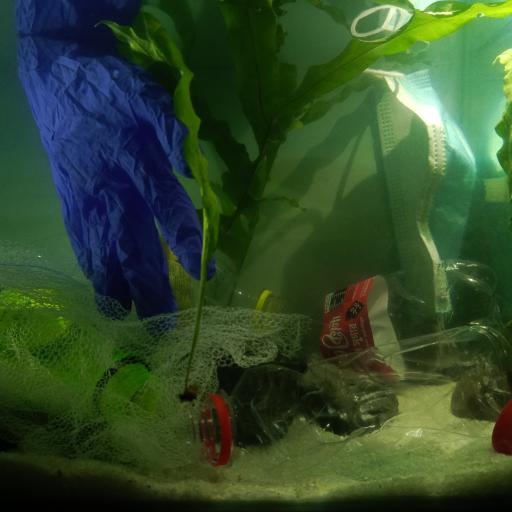bottle_cap: (490, 396, 512, 454)
glove: (14, 26, 217, 334)
mask: (367, 62, 483, 318)
net: (0, 244, 311, 471)
plastic_bottle: (175, 313, 512, 467), (304, 262, 502, 376), (3, 286, 156, 419), (148, 234, 281, 328)
